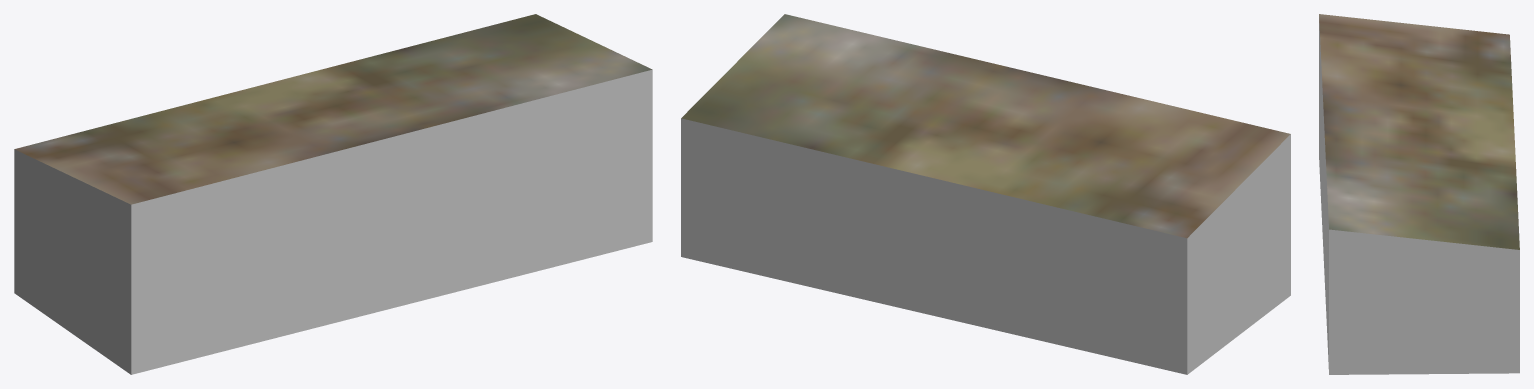
The model's file is DEBW_0010007TxhV.gltf.
The picture shows the model from 3 angles, left to right: view 1: azimuth 30°, elevation 25°; view 2: azimuth 150°, elevation 25°; view 3: azimuth 270°, elevation 25°; orthographic projection. The views are drawn at different scales.
Visible parts, largest first — view 1: Z_UP; view 2: Z_UP; view 3: Z_UP.
Boxes of the visible parts, x1,y1,x2,y2 form: Z_UP: (14, 14, 652, 374); Z_UP: (681, 14, 1290, 374); Z_UP: (1319, 14, 1519, 374).
Size of the model in its own units: 8.25 by 2.56 by 3.2.
2 materials, 1 textured.
